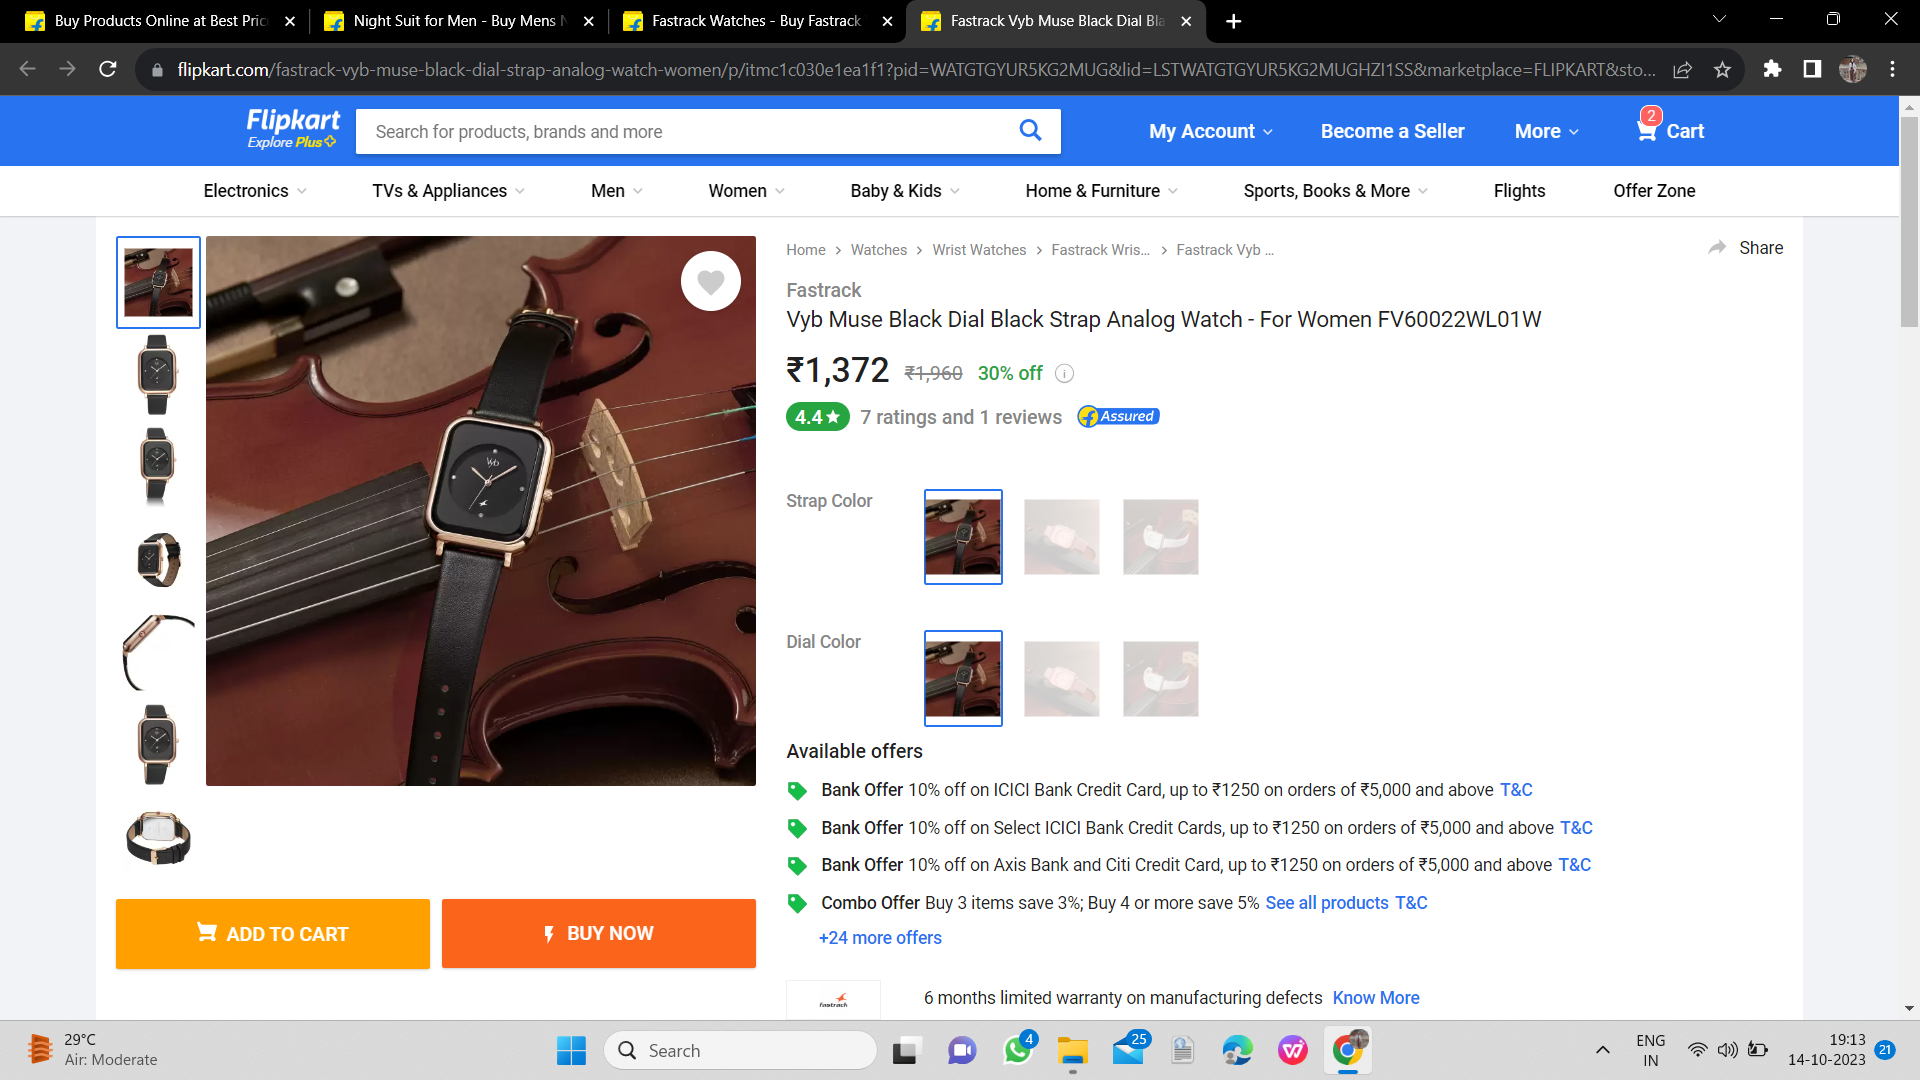Image: (204, 237, 760, 783)
Paragraph: (783, 770, 1597, 951), (108, 872, 781, 981), (783, 272, 1543, 339), (773, 345, 1160, 444), (1141, 115, 1724, 146), (779, 737, 934, 764), (783, 621, 872, 655), (783, 489, 872, 518)
